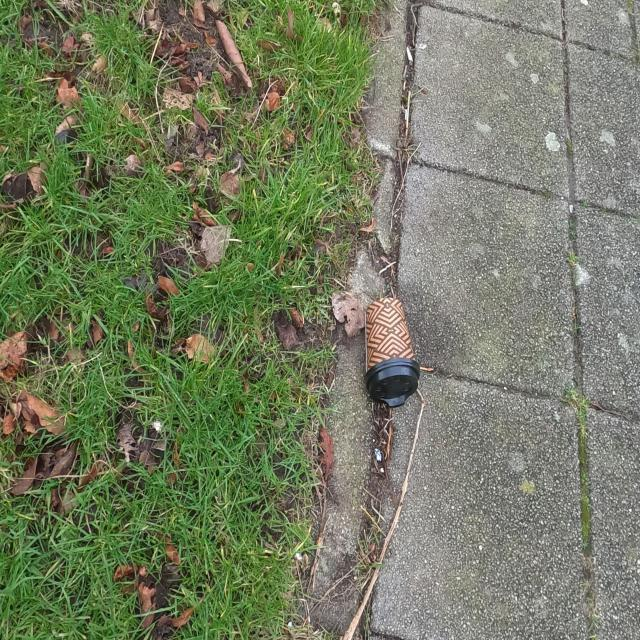Cup: (359, 291, 432, 414)
